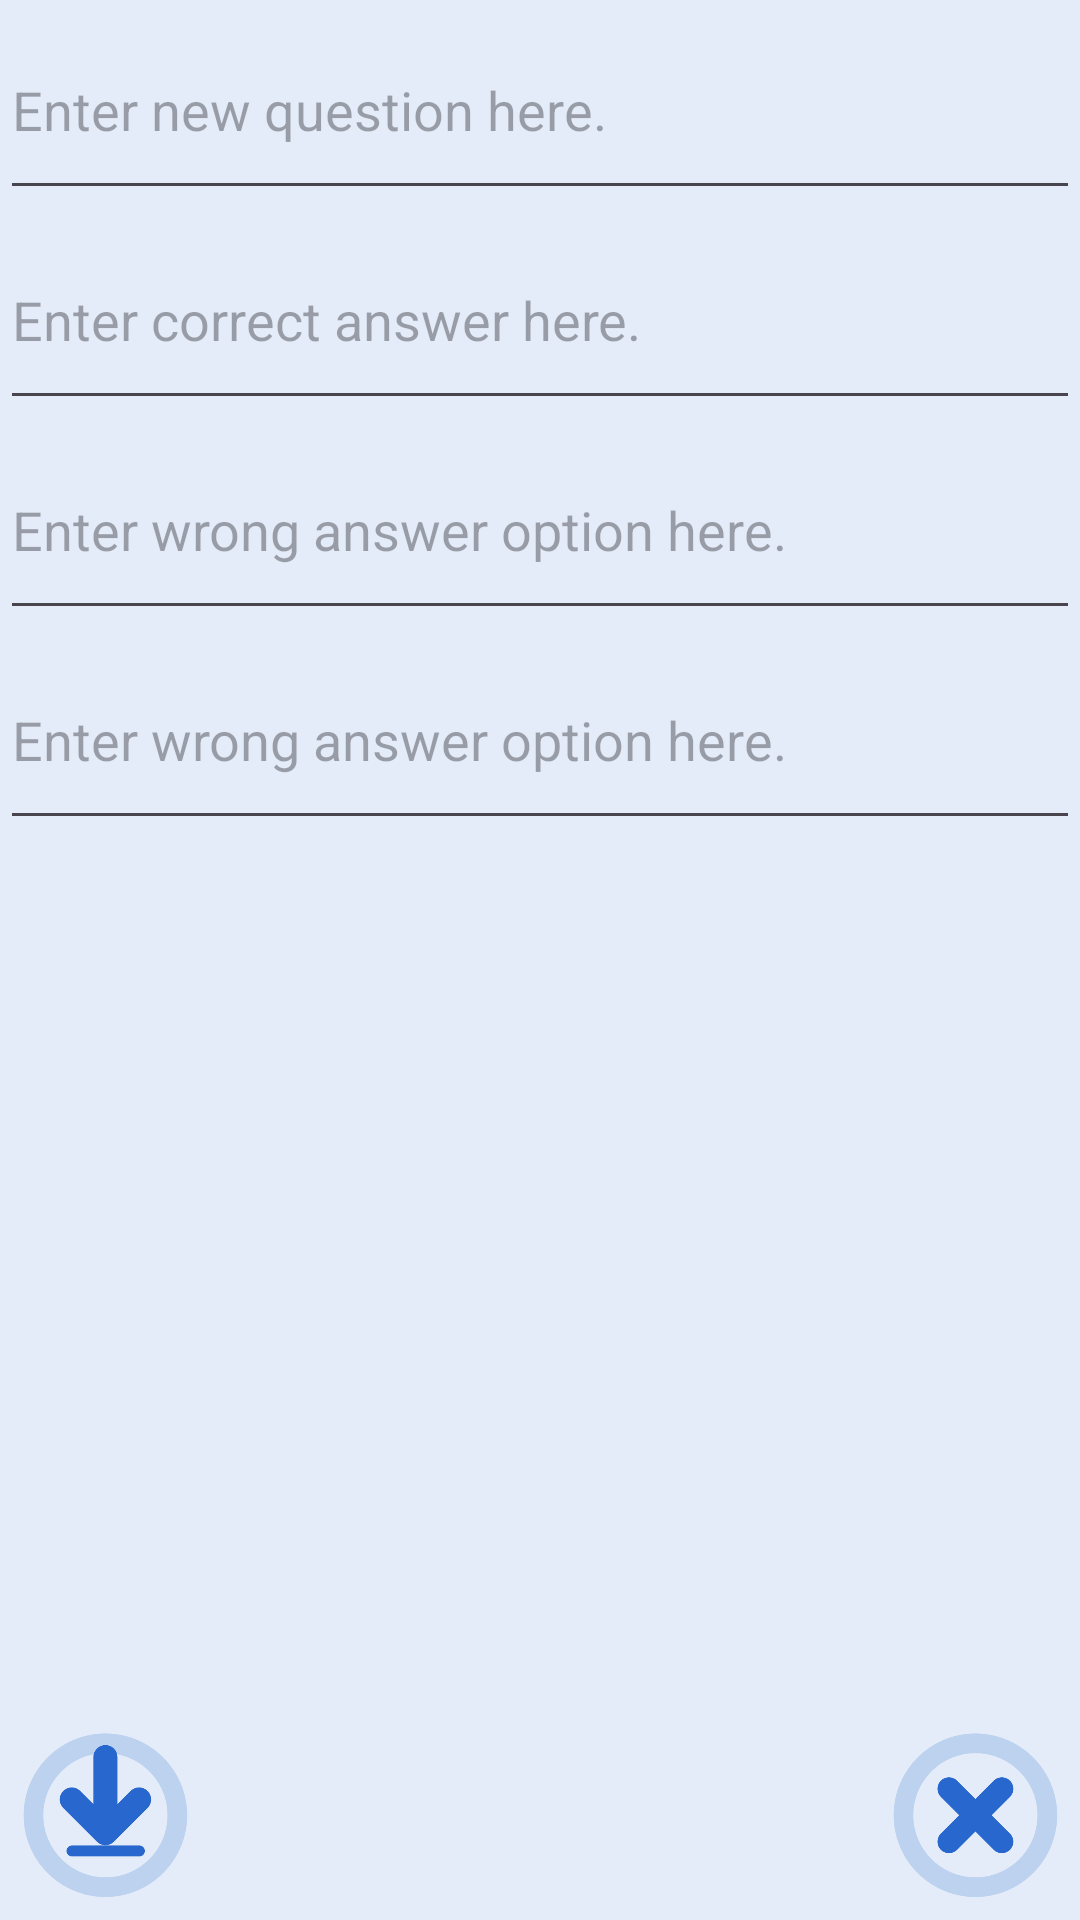

Named icons in this screenshot (1080px x 1920px) and their centers, [x,y]:
cancel: [975,1815]
save: [105,1815]
